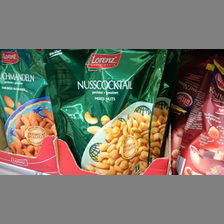nuts: (42, 49, 168, 174)
